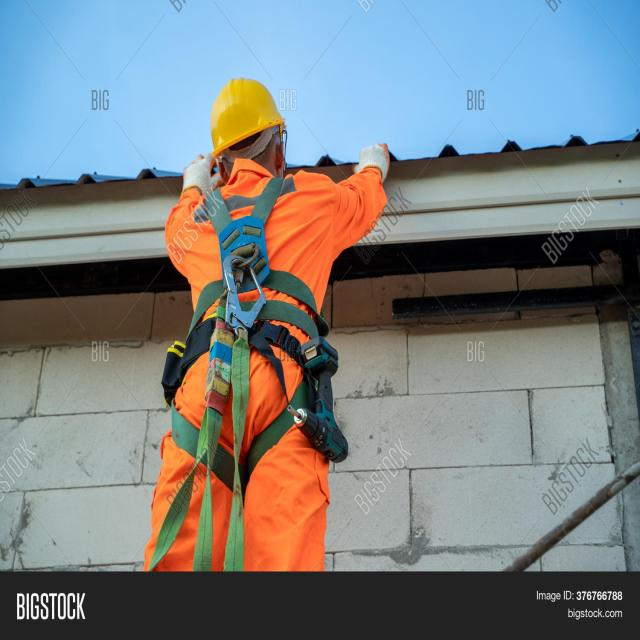gloves: (180, 154, 226, 202), (352, 142, 393, 184)
helmet: (207, 75, 288, 160)
vest: (195, 171, 334, 347)
